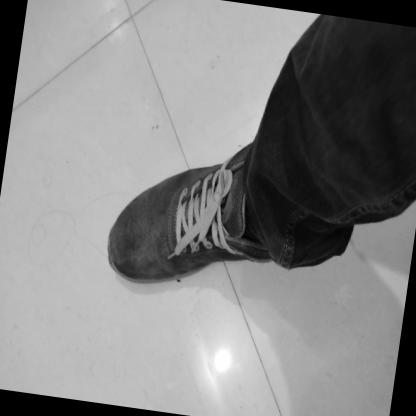ankle: (237, 222, 242, 227)
heel: (264, 248, 269, 253)
left_foot: (104, 125, 295, 302)
pinky: (135, 200, 140, 205)
toe: (129, 272, 134, 278)
